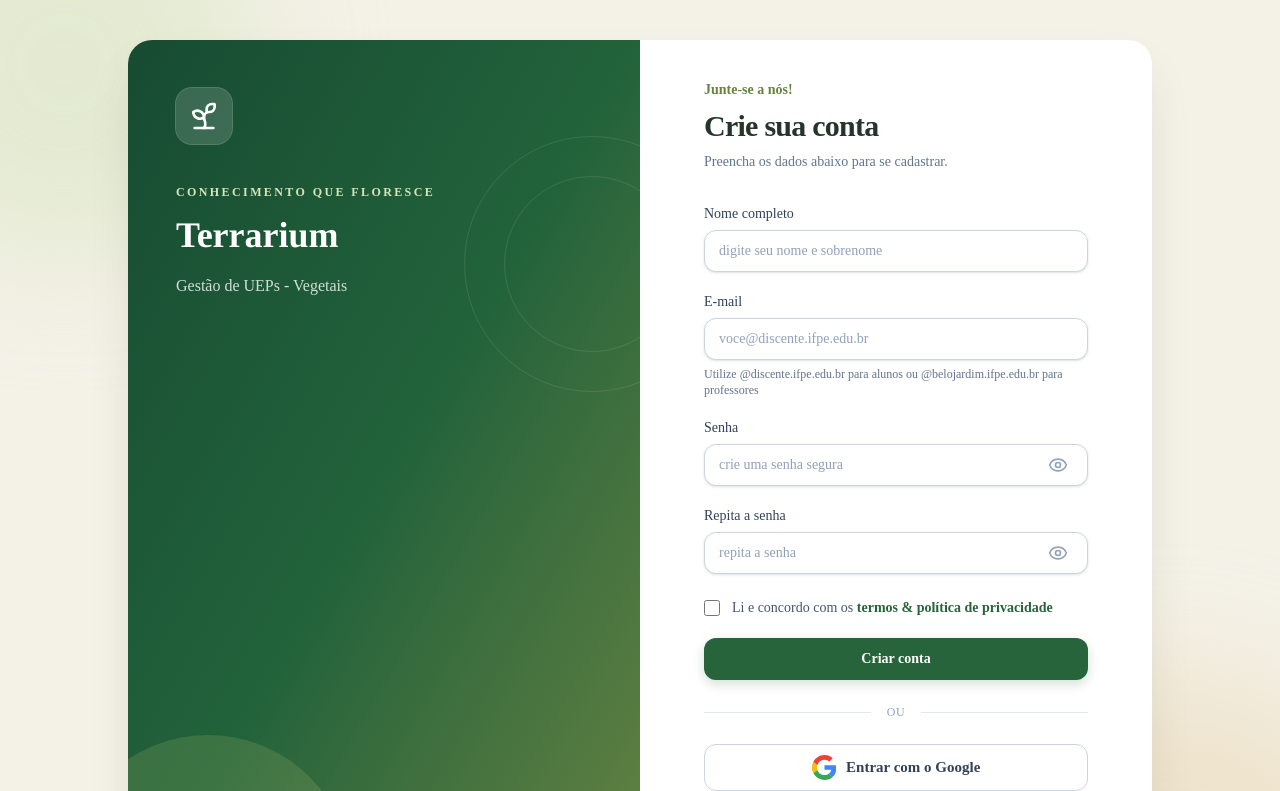
Test: RegisterPage › deve exibir erro se a senha tiver menos de 8 caracteres
In the field labelled "Nome completo": [896, 251] box [704,230,1088,272], type "Isabela Santos"
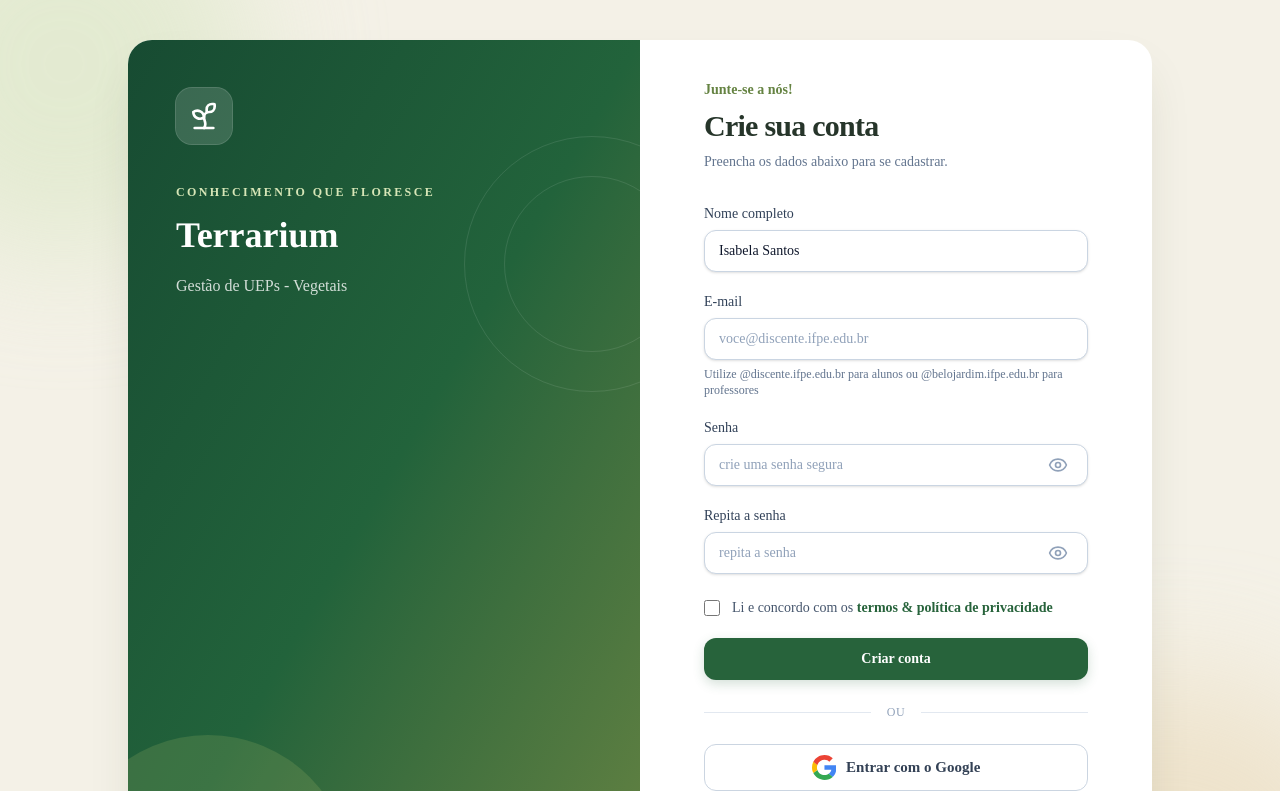
In the field labelled "E-mail": [896, 339] box [704,318,1088,360], type "isabela@discente.ifpe.edu.br"
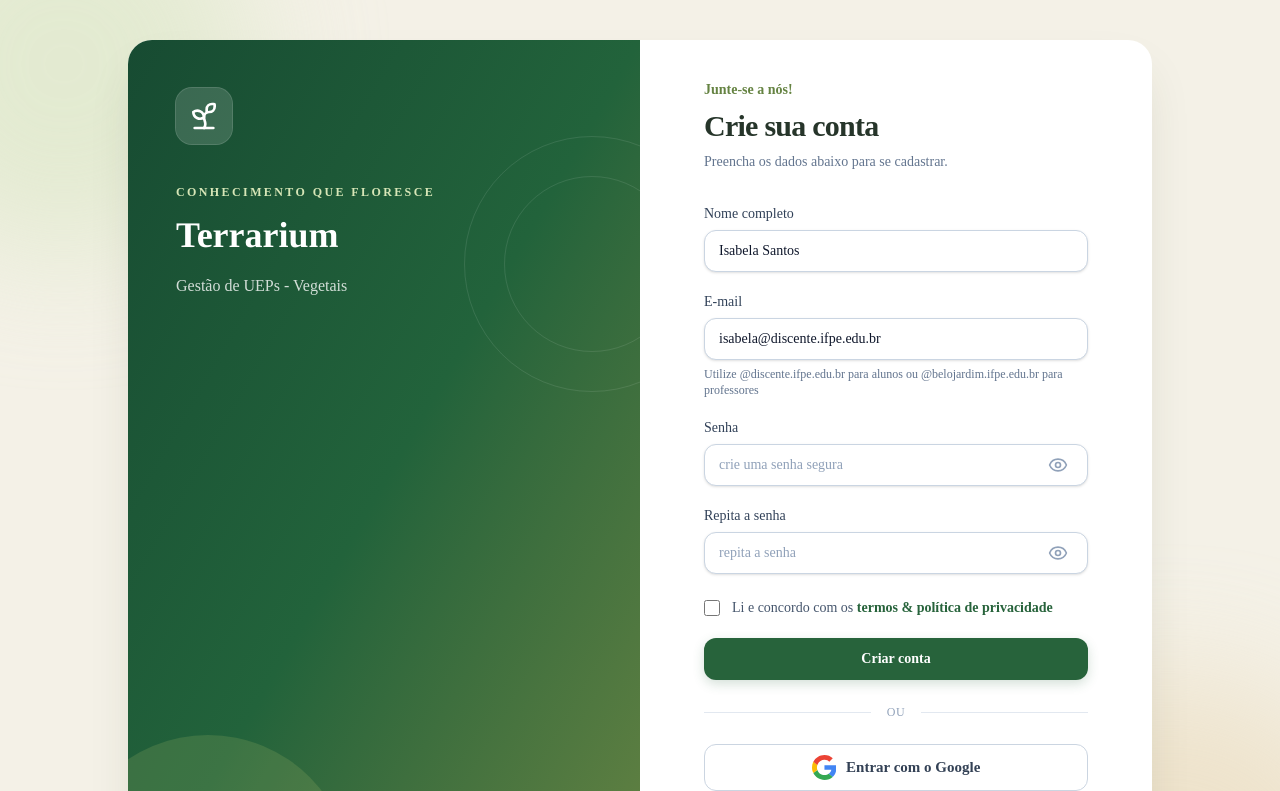
In the password field labelled "Senha": [896, 465] box [704,444,1088,486], type "Senha1"
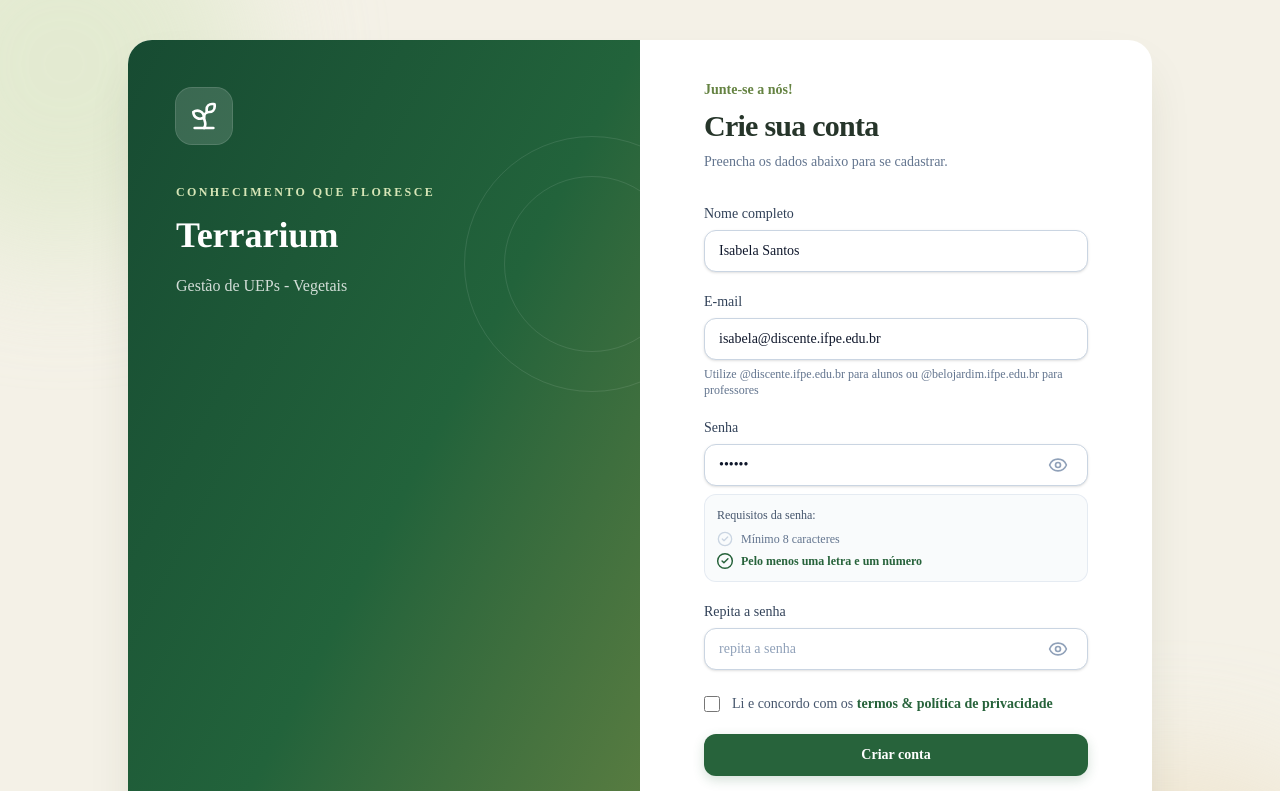
In the password field labelled "Repita a senha": [896, 649] box [704,628,1088,670], type "Senha1"
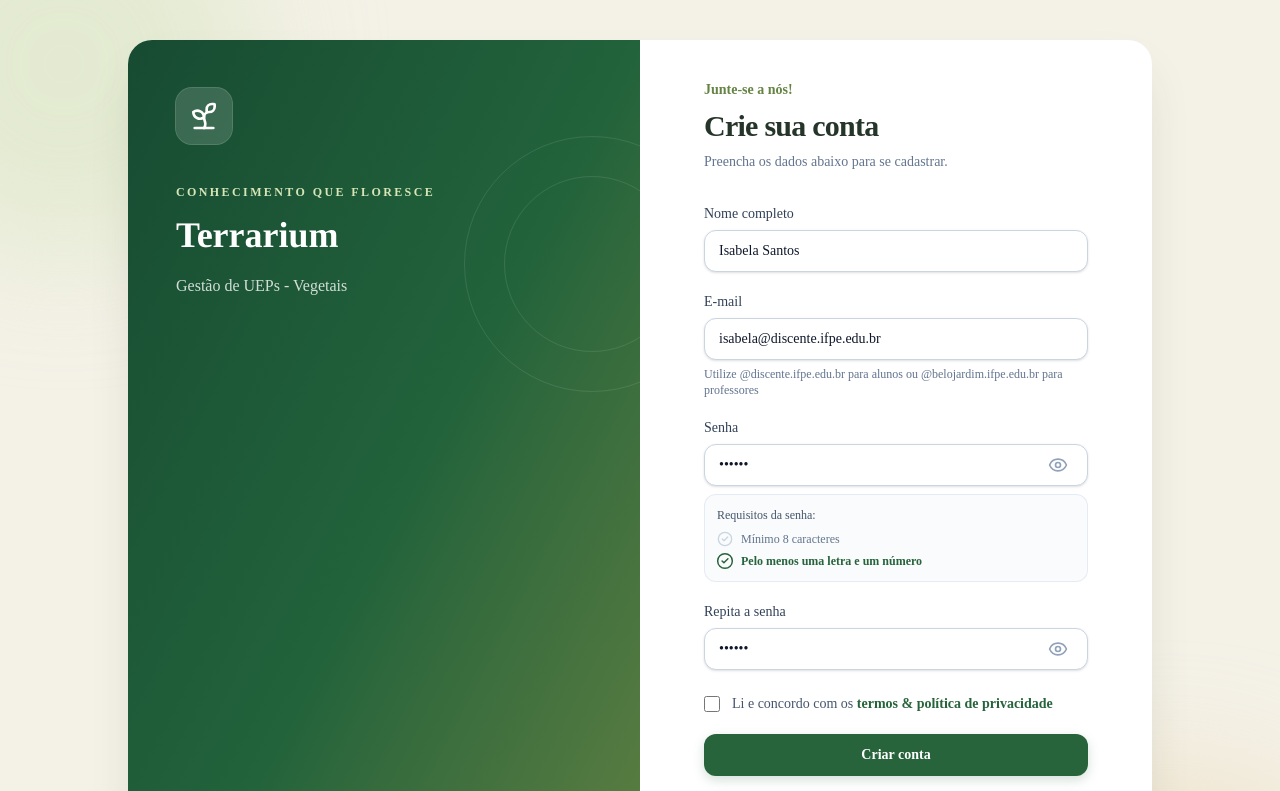
Click the button "Criar conta": [896, 755] box [704,734,1088,776]
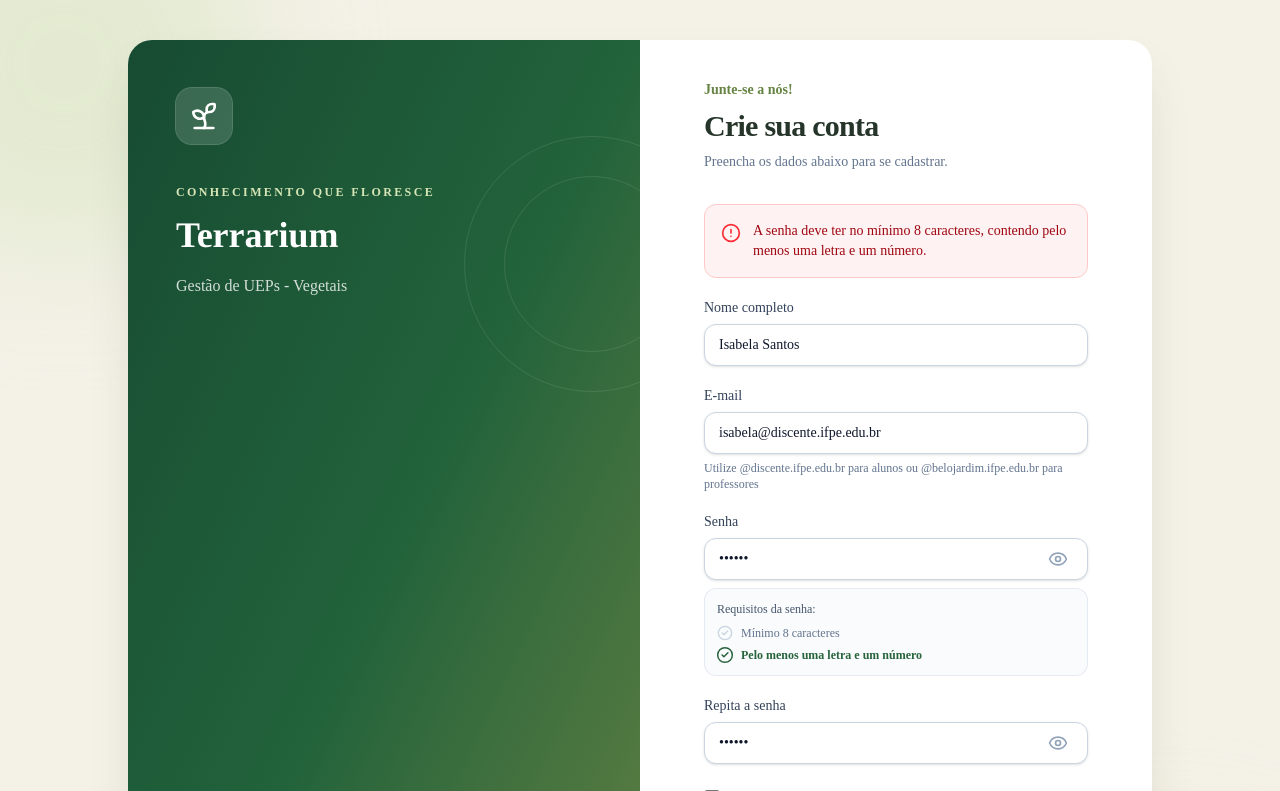
Expected: the text "A senha deve ter no mínimo 8 caracteres, contendo pelo menos uma letra e um número." is shown, [753,223,1066,258]
